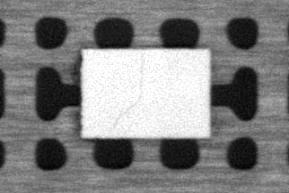DIE_CRACK: (112, 52, 145, 132)
